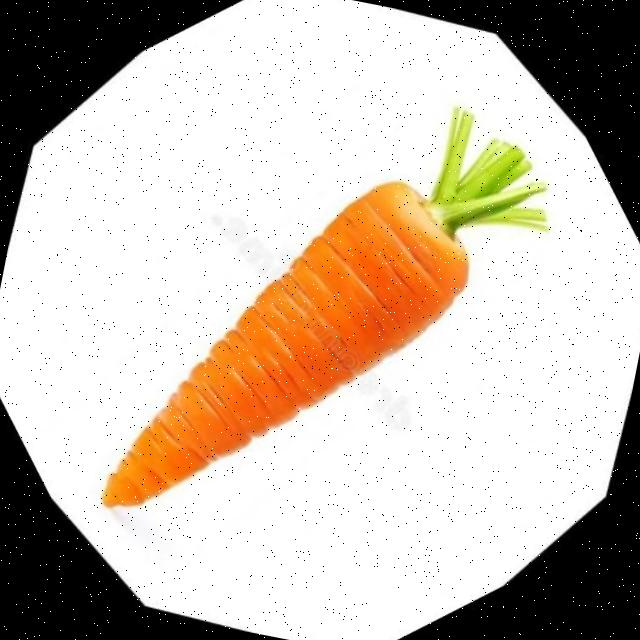carrot: (103, 182, 468, 506)
